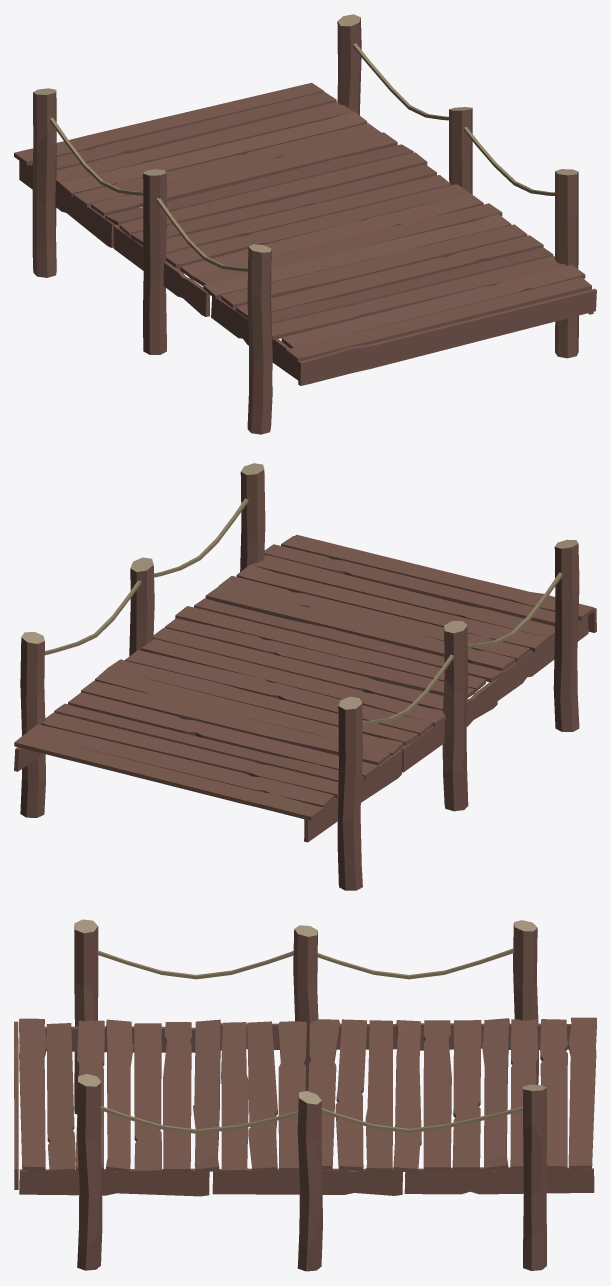
Rendered from Dock_Wide.glb.
3 renders of one model, top to bottom at view 1: azimuth 30°, elevation 25°; view 2: azimuth 150°, elevation 25°; view 3: azimuth 270°, elevation 25°, orthographic. The views are drawn at different scales.
Parts seen in each view (by area): view 1: Dock_Wide; view 2: Dock_Wide; view 3: Dock_Wide.
Boxes of the visible parts, box(x1,y1,x2,y2) form: Dock_Wide: box(14, 14, 596, 434); Dock_Wide: box(14, 463, 596, 890); Dock_Wide: box(14, 919, 596, 1271).
Size of the model in its own units: 14.63 by 7.68 by 21.69.
